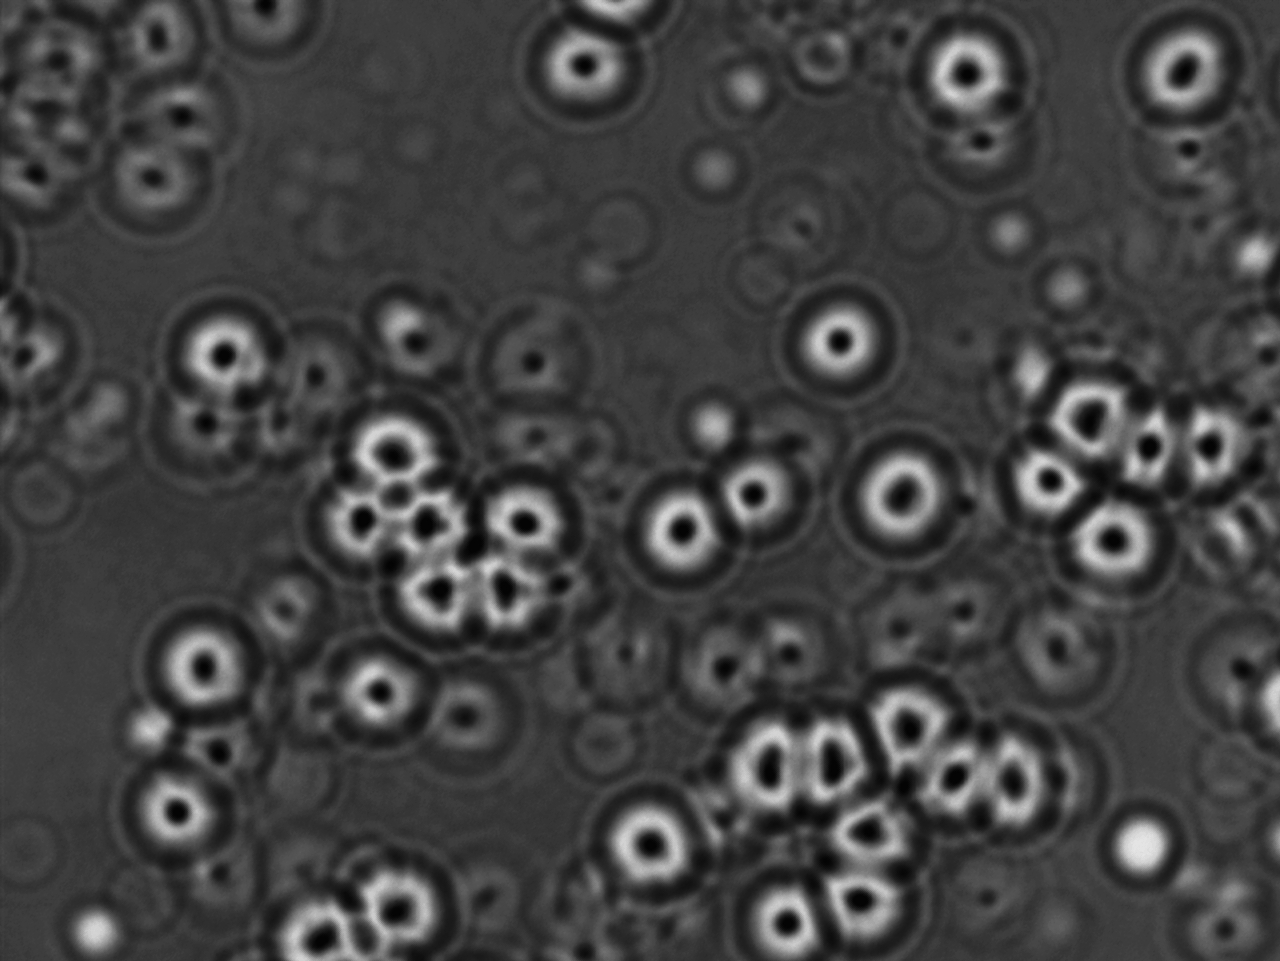depth:16: (1127, 13, 1253, 127), (843, 440, 959, 555), (779, 283, 900, 393), (167, 295, 286, 406), (527, 16, 649, 123), (911, 21, 1027, 130), (120, 757, 236, 864), (594, 792, 709, 899), (719, 709, 822, 825), (338, 395, 448, 501), (326, 631, 432, 739), (630, 479, 735, 588), (141, 608, 248, 713), (707, 444, 814, 548), (1062, 490, 1165, 598), (826, 786, 935, 886), (1005, 429, 1102, 538), (481, 468, 578, 569), (870, 676, 967, 777), (788, 707, 884, 808), (1181, 400, 1270, 507), (1042, 365, 1135, 463), (817, 858, 917, 946), (1115, 403, 1203, 495), (738, 875, 832, 961)
